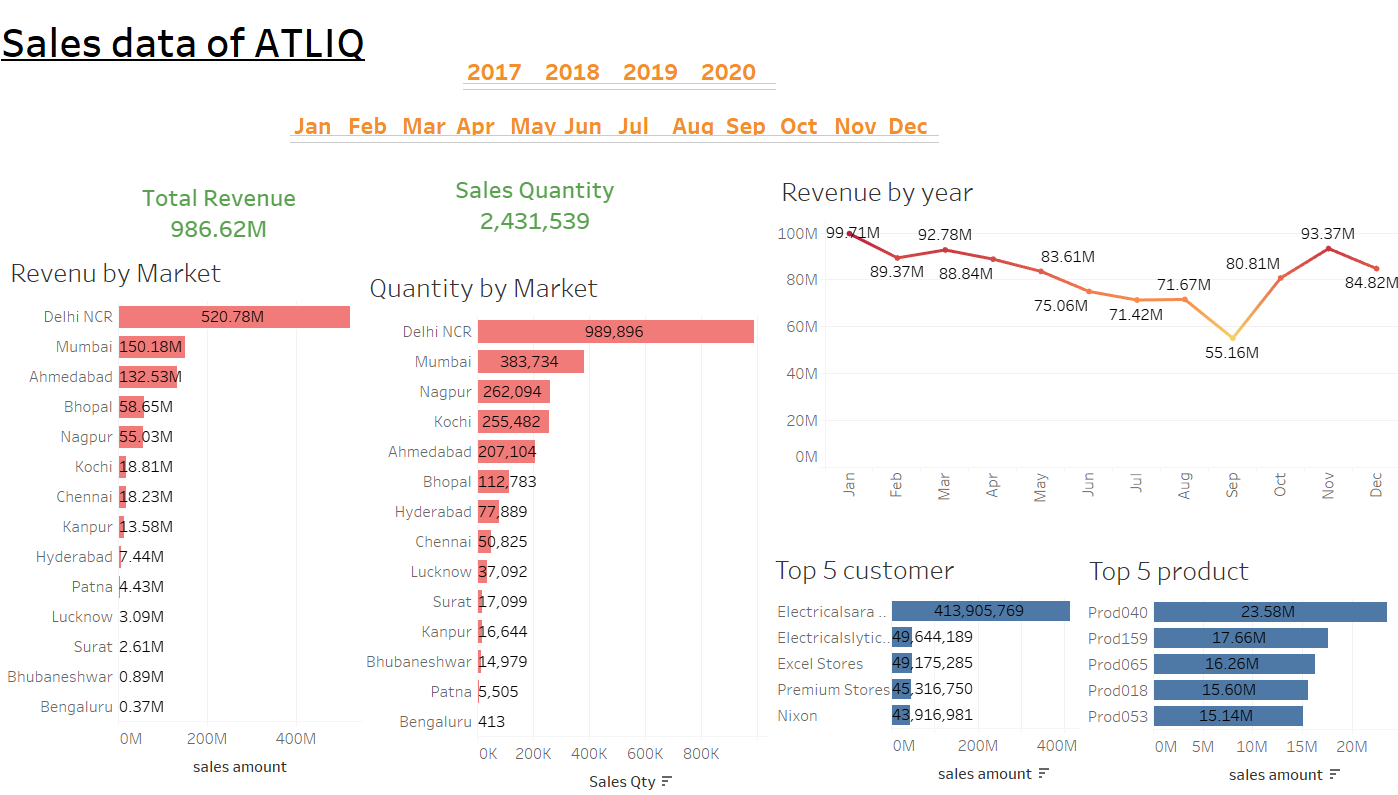

The page's visual inventory and layout, read from the dashboard file:
{"tool":"tableau","page":{"name":"Dashboard 1","canvas":[1400,800],"ordinal":0},"visuals":[{"type":"text","box":[0,2,421,81]},{"type":"worksheet","title":"year","mark":"Automatic","cols":["cy_date"],"box":[465,45,317,53]},{"type":"worksheet","title":"Month","mark":"Automatic","cols":["cy_date"],"box":[292,102,650,58]},{"type":"worksheet","title":"revenue","mark":"Automatic","box":[110,142,222,135]},{"type":"worksheet","title":"Quantity","mark":"Automatic","box":[447,160,235,103]},{"type":"worksheet","title":"Revenue by year","mark":"Automatic","rows":["Calculation_703968970749456384"],"cols":["cy_date"],"box":[779,172,623,337]},{"type":"worksheet","title":"Revenue by Market","mark":"Automatic","rows":["markets_name"],"cols":["Calculation_703968970749456384"],"box":[8,253,356,543]},{"type":"worksheet","title":"Sales quantity by market","mark":"Automatic","rows":["markets_name"],"cols":["sales_qty"],"box":[367,268,403,533]},{"type":"worksheet","title":"Top 5 customer","mark":"Automatic","rows":["custmer_name"],"cols":["Calculation_703968970749456384"],"box":[773,550,308,251]},{"type":"worksheet","title":"Top 5 product","mark":"Automatic","rows":["product_code (products)"],"cols":["Calculation_703968970749456384"],"box":[1087,551,314,251]}]}

Visuals, with their boxes in screenshot pixels (x1, y1, x2, y2), scaled from the page's 1400x800 canvas onto the 1398x795 screenshot:
text: l=0, t=2, r=420, b=82
"year" worksheet: l=464, t=45, r=781, b=97
"Month" worksheet: l=292, t=101, r=941, b=159
"revenue" worksheet: l=110, t=141, r=332, b=275
"Quantity" worksheet: l=446, t=159, r=681, b=261
"Revenue by year" worksheet: l=778, t=171, r=1397, b=506
"Revenue by Market" worksheet: l=8, t=251, r=363, b=791
"Sales quantity by market" worksheet: l=366, t=266, r=769, b=794
"Top 5 customer" worksheet: l=772, t=547, r=1079, b=794
"Top 5 product" worksheet: l=1085, t=548, r=1397, b=794
